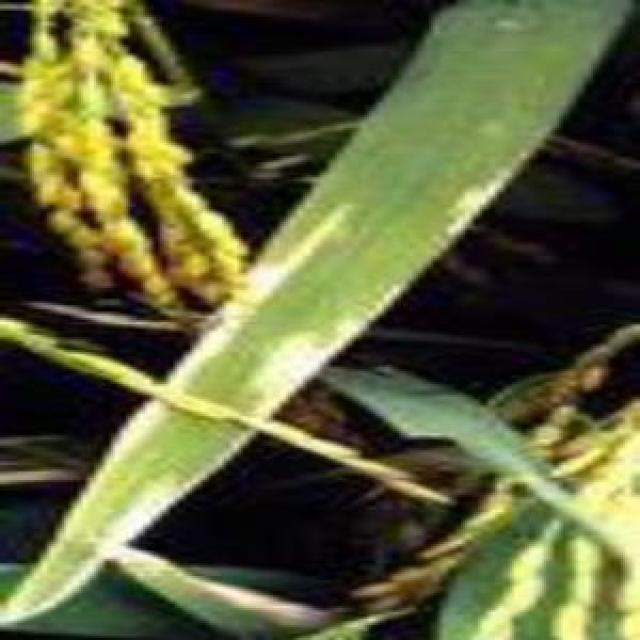Bacterial_Blight: (113, 208, 351, 460), (0, 466, 213, 623), (242, 287, 408, 433), (199, 579, 340, 632), (443, 168, 522, 239), (109, 546, 175, 583)
